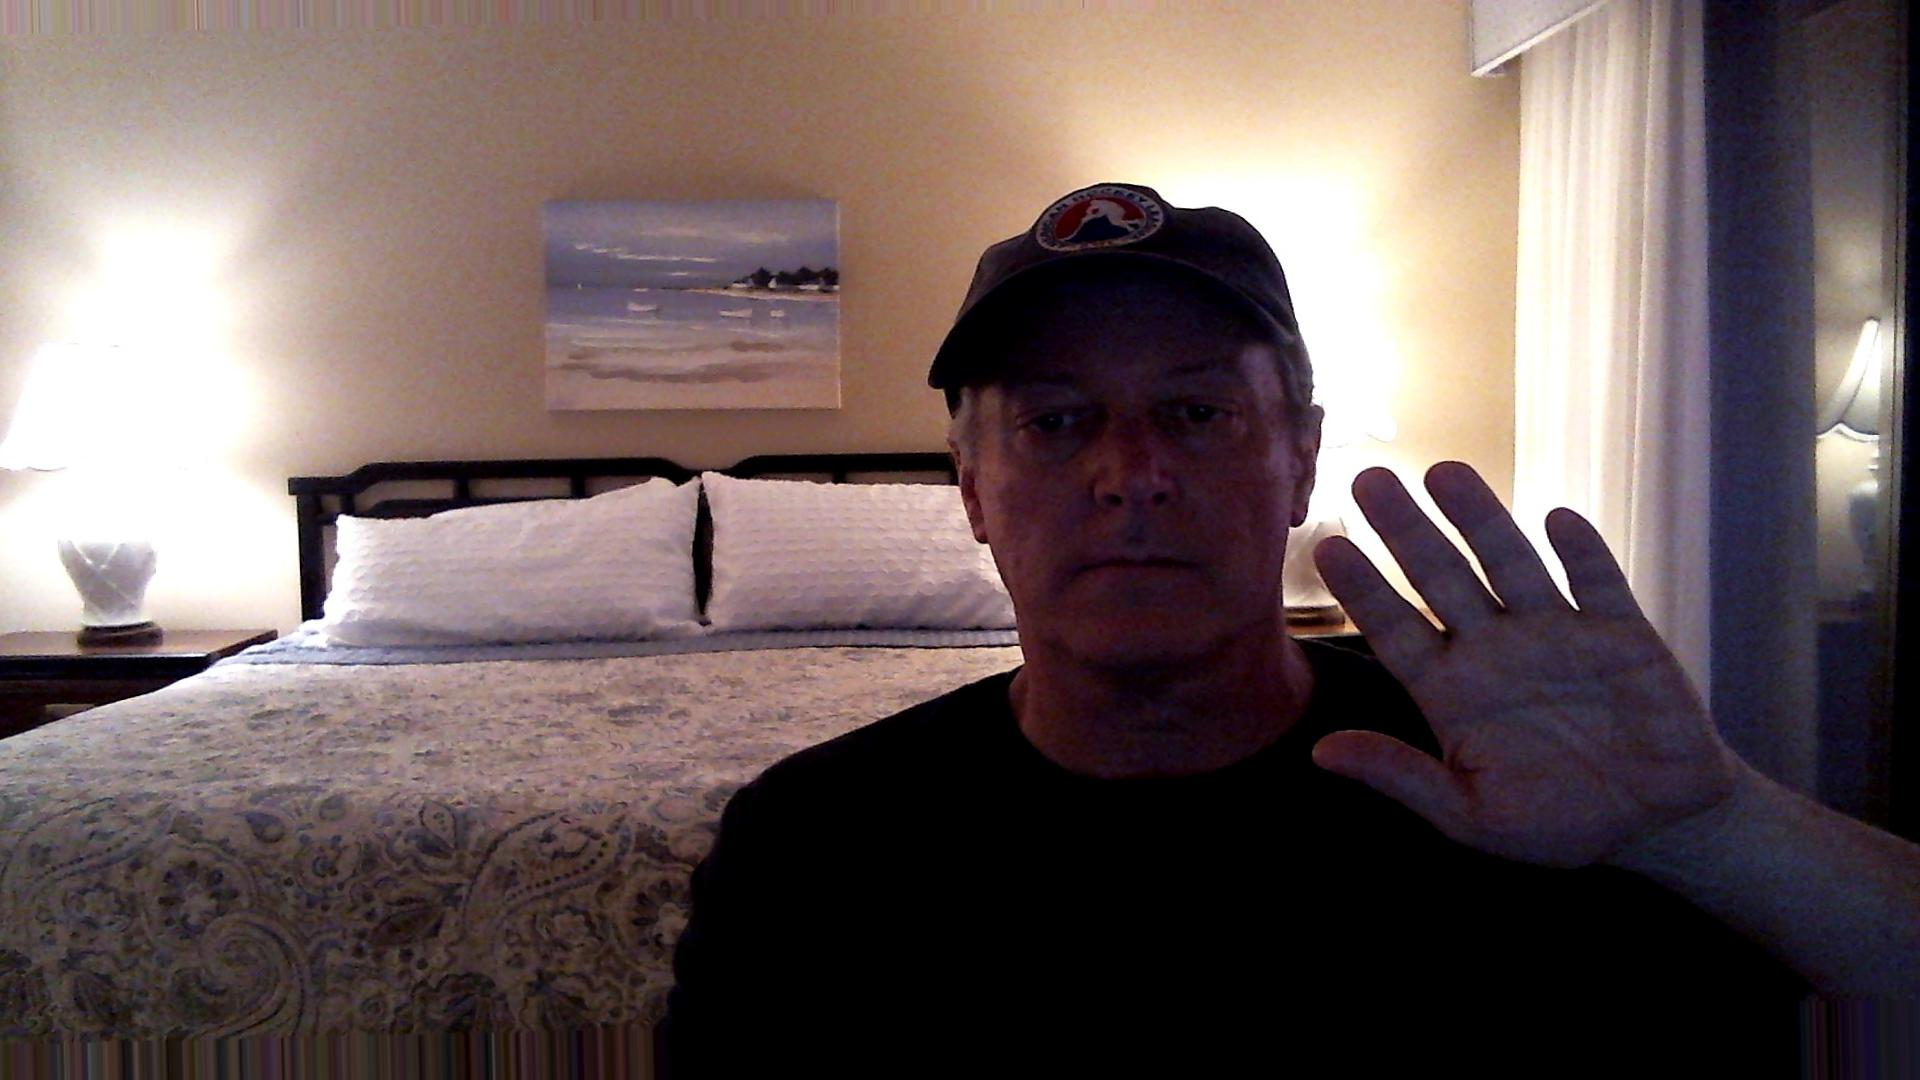Hello: (1300, 458, 1768, 878)
